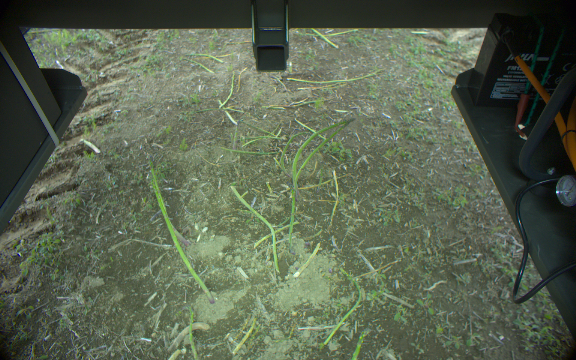aspa: (145, 160, 213, 301), (290, 115, 357, 191), (228, 185, 282, 275), (293, 122, 351, 178)
